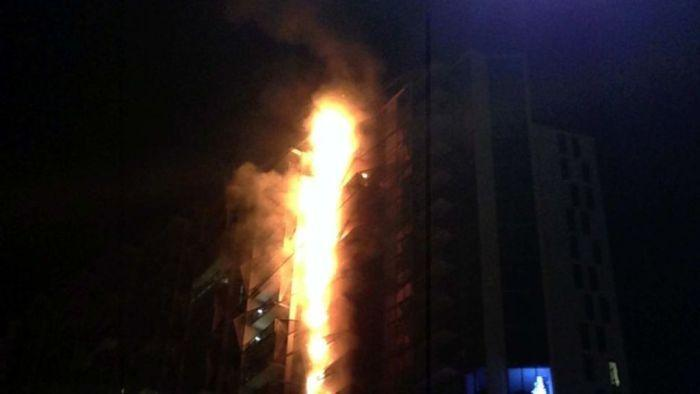fire: (291, 99, 353, 391)
smoke: (226, 99, 292, 287), (316, 33, 378, 98)
